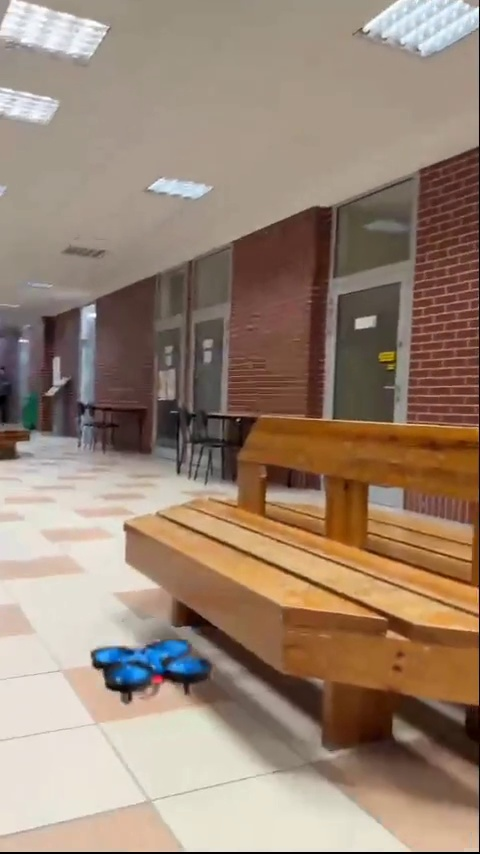drone: (92, 643, 204, 697)
